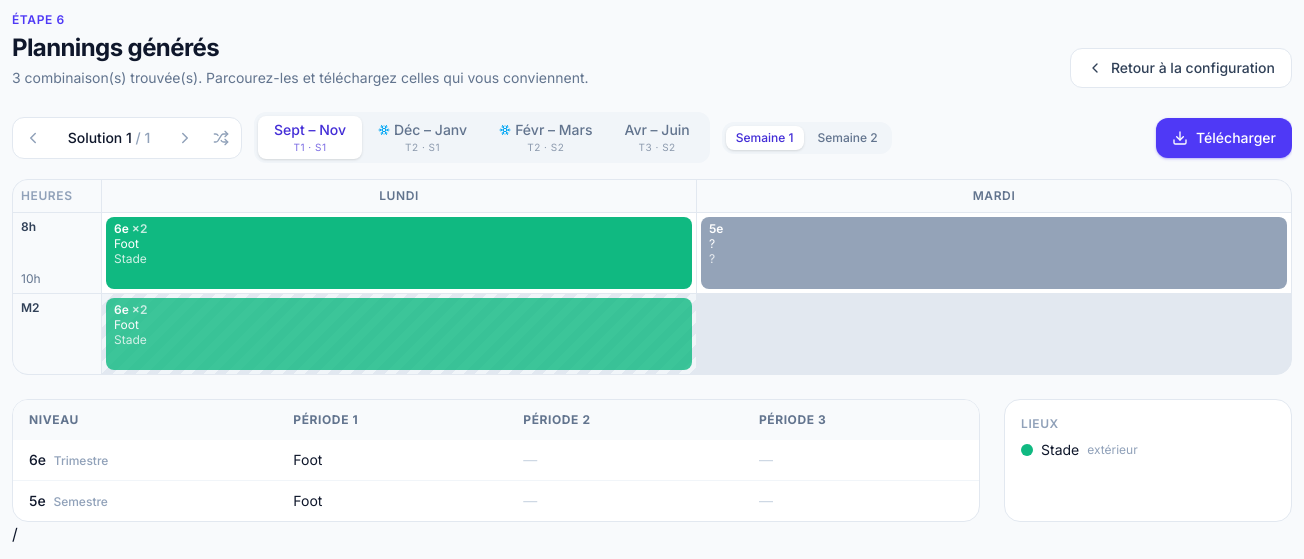
Scenario: PlanningPage : semaines et séances longues › sélecteur de semaine et affichage sur plusieurs lignes
Expected: the number of elements titled "6e · Foot · Stade · 8h –" is 2, [106,217,692,289]; [106,298,692,370]
What coordinates should you click on to do the following:
click the button "Semaine 2"
I would click on:
 (848, 138)
Its box is [808,126,888,150].
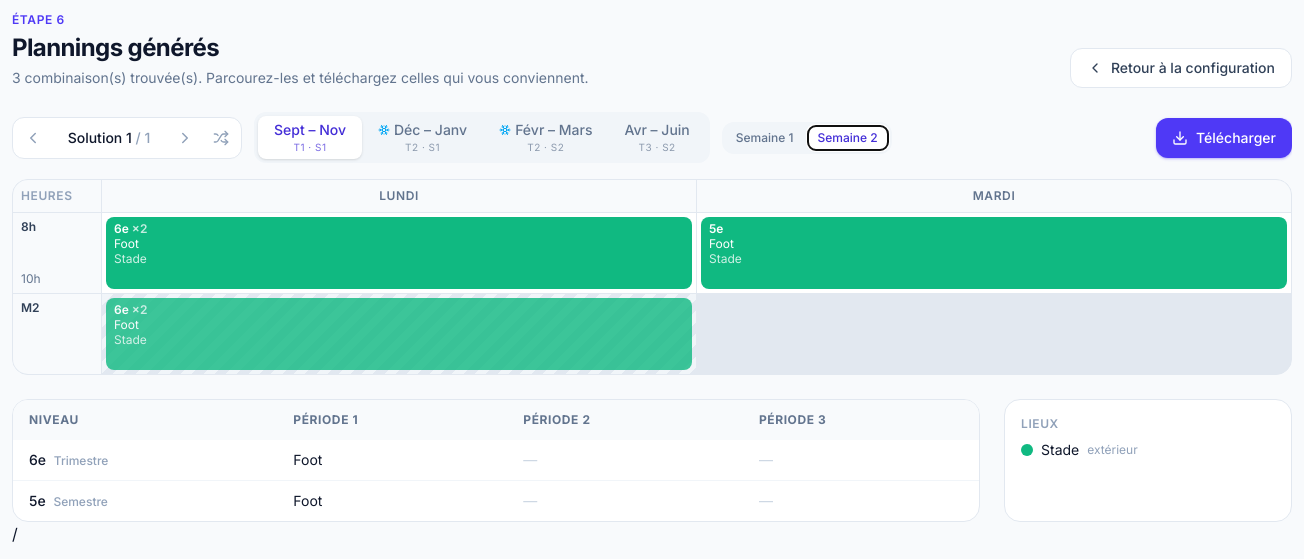
Now the element titled "5e · Foot · Stade · 8h – 10h" is shown, box [701,217,1287,289]
What coordinates should you click on to do the following:
click the text "Déc – Janv"
I would click on:
 (423, 130)
Its box is [378,120,467,140].
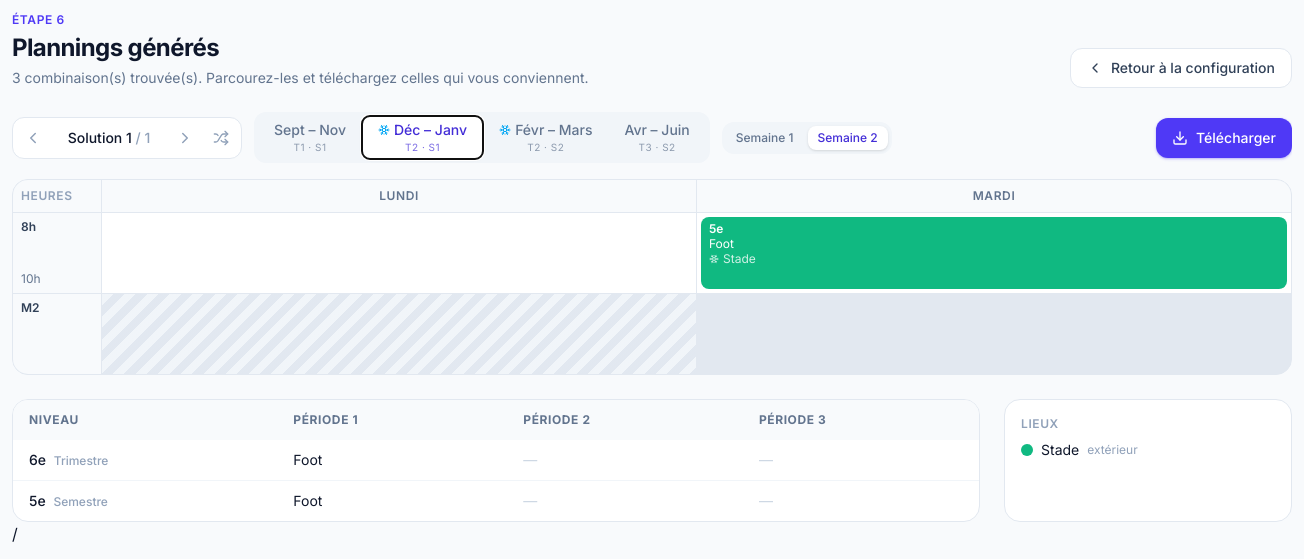
Now the icon with class "lucide-snowflake" below "Mardi" is shown, box [709,254,719,264]
